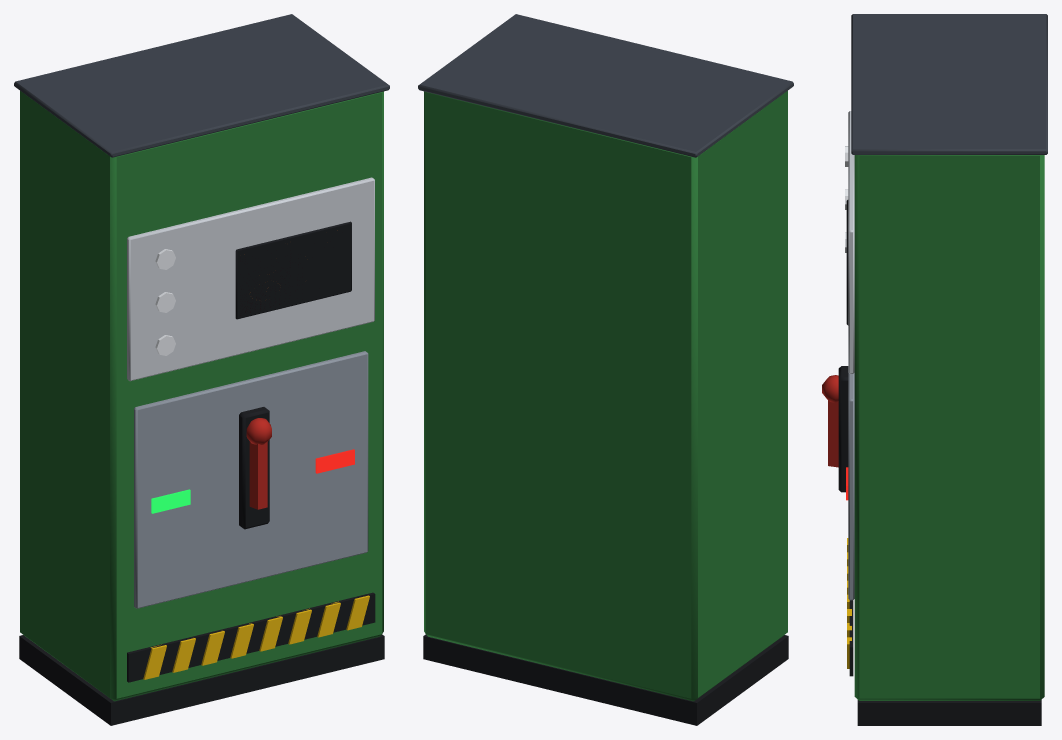
Rendered from junction_switchgear.glb.
3 renders of one model, left to right at view 1: azimuth 30°, elevation 25°; view 2: azimuth 150°, elevation 25°; view 3: azimuth 270°, elevation 25°, orthographic.
Parts seen in each view (by area): view 1: junction_switchgear; view 2: junction_switchgear; view 3: junction_switchgear.
Boxes of the visible parts, left/top/right/bottom form: junction_switchgear: left=14, top=14, right=389, bottom=725; junction_switchgear: left=418, top=14, right=793, bottom=725; junction_switchgear: left=822, top=14, right=1047, bottom=725.
Size of the model in its own units: 1.02 by 2.01 by 0.7128.
